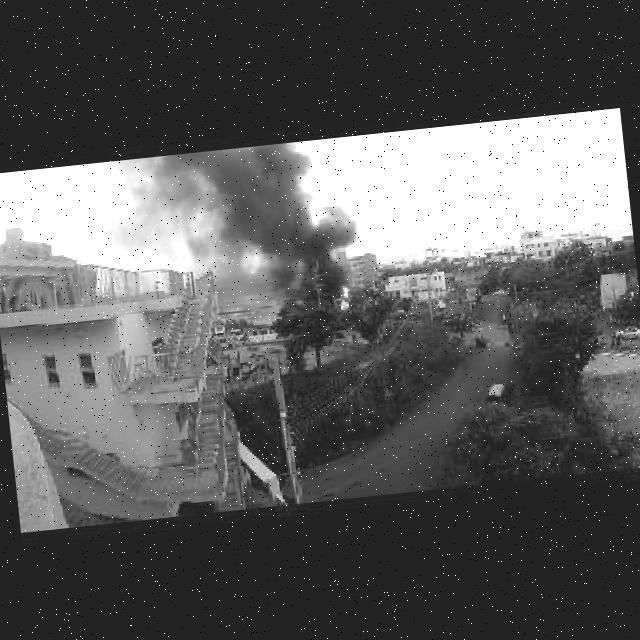Fire: (337, 282, 355, 308)
Smoke: (85, 143, 333, 273), (243, 202, 363, 315)
